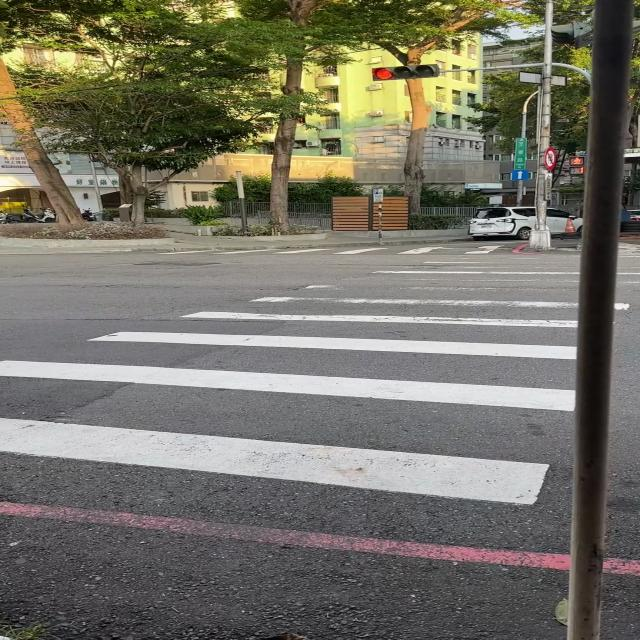car: (468, 206, 536, 240), (547, 208, 582, 233)
crosswalk: (0, 255, 579, 507), (154, 245, 507, 254)
